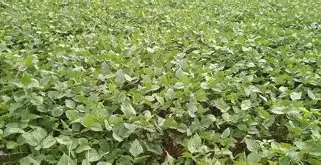crops: (0, 0, 317, 163)
